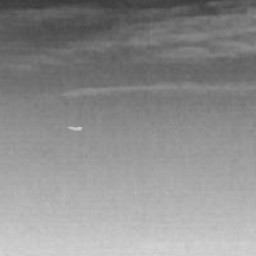Target: (67, 125, 84, 133)
